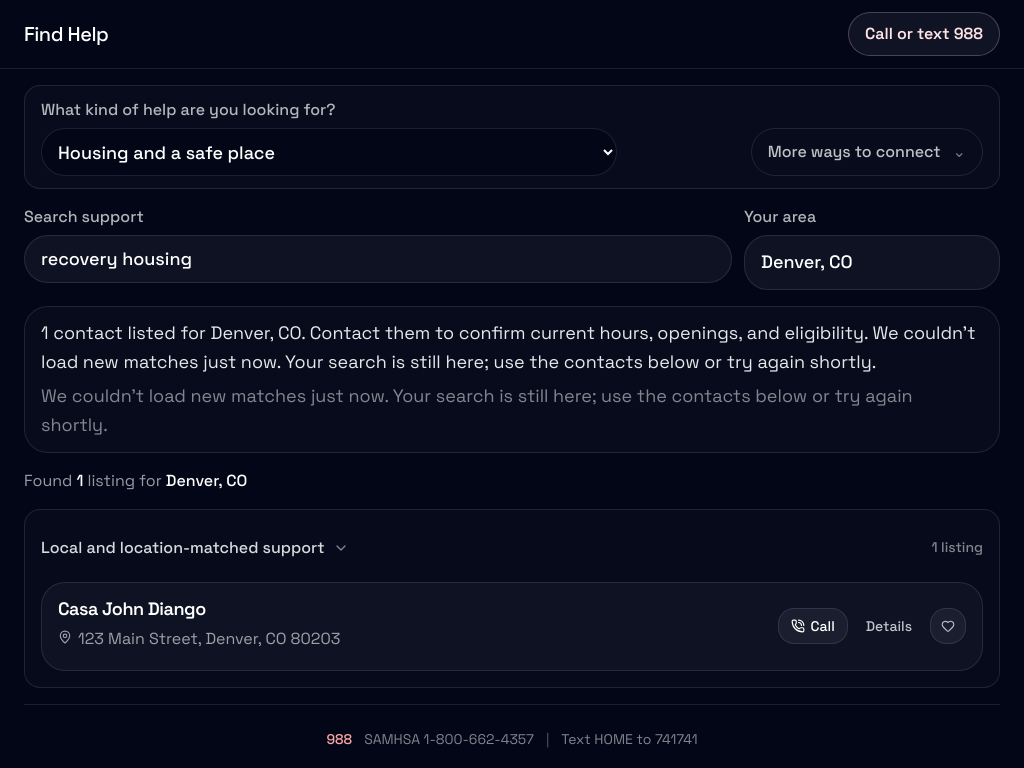
Test: real-world assistance search states › lets a person privately report an issue on an approved WellnessCafe listing in place
Click the button "Details": (889, 626) [854,608,924,644]
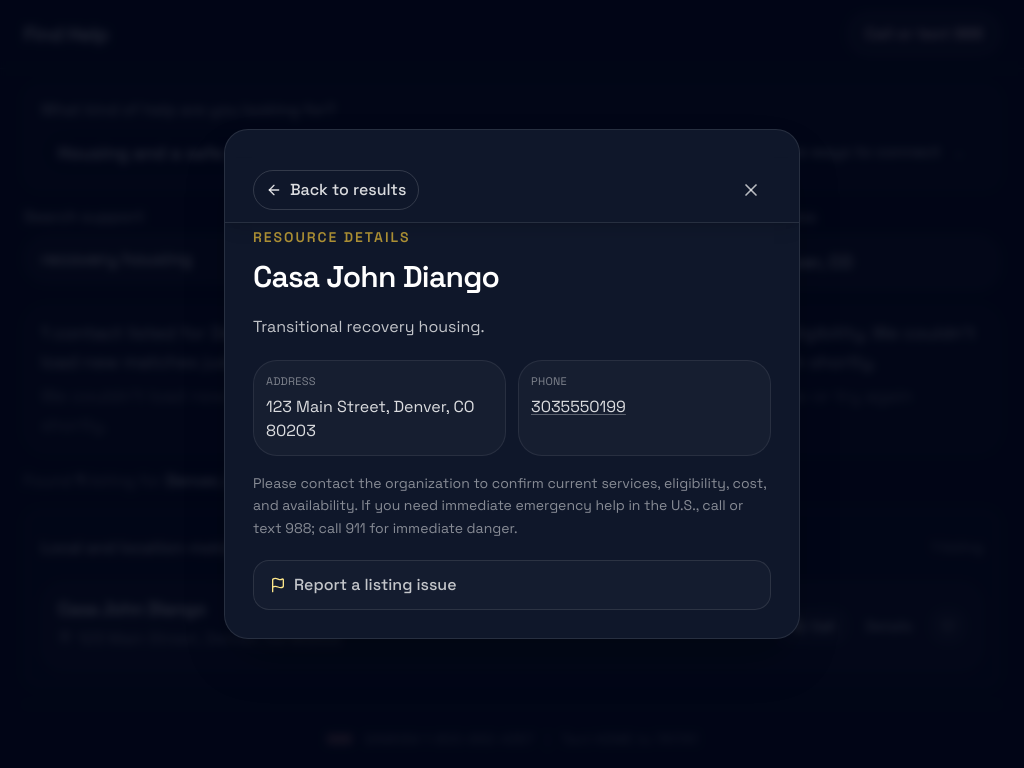
Click the heading "Report a listing issue": (363, 584) [270,574,456,595]
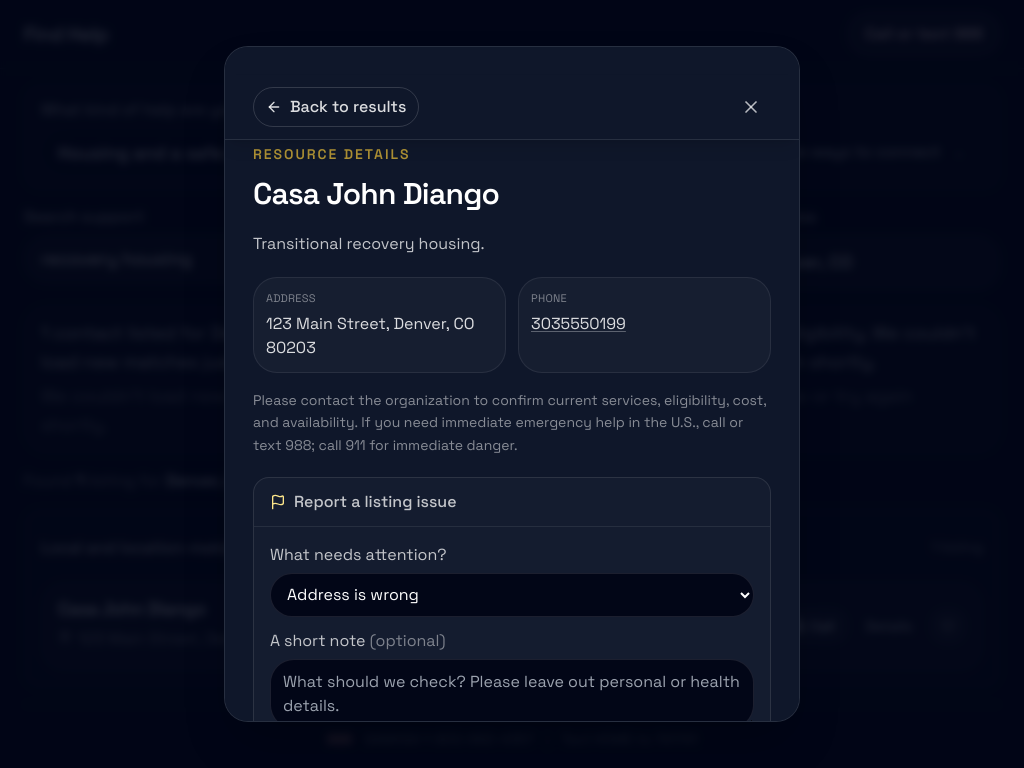
Select "Phone number is wrong" in the dropdown labelled "What needs attention?": (512, 595) [270,573,754,617]
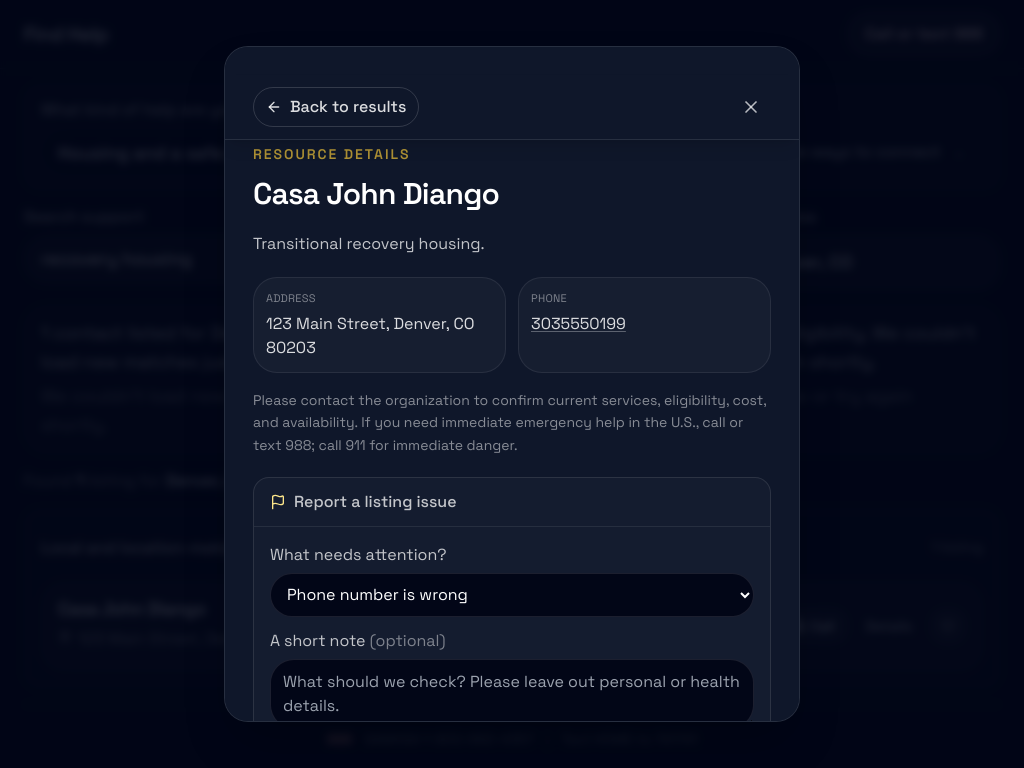
Replace the text in the text box labelled "A short note (optional)" with "The number rings to a different business.": (512, 694) [270,659,754,729]
(page scrolled)
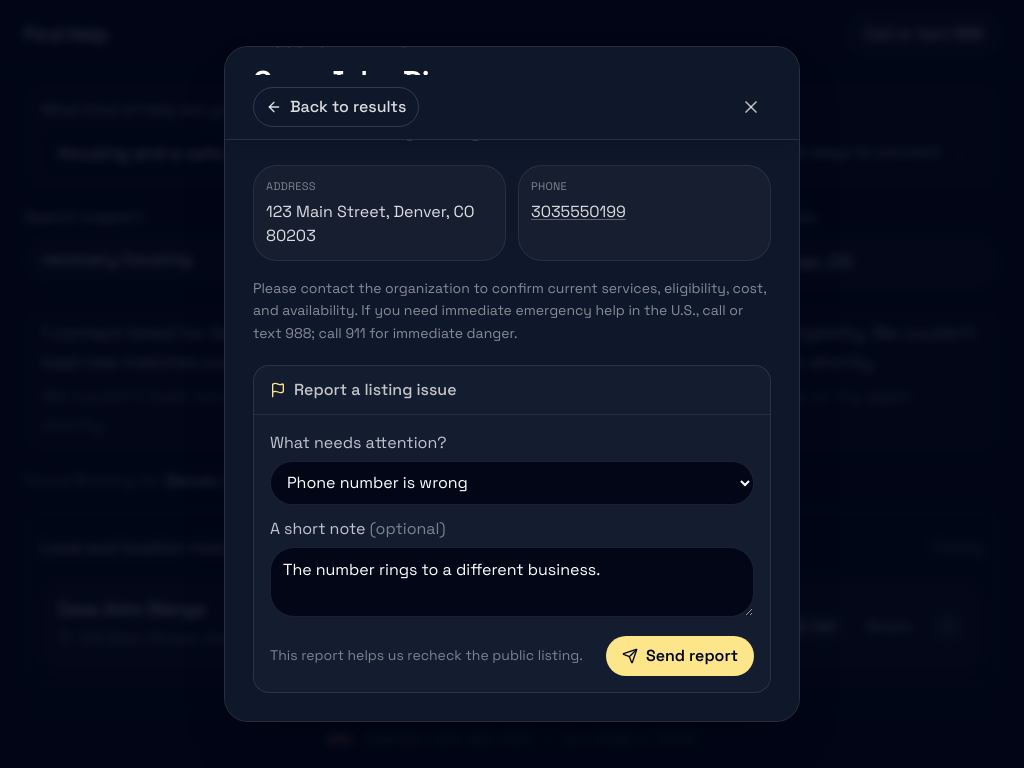
Click the button "Send report": (680, 656) [606,636,754,676]
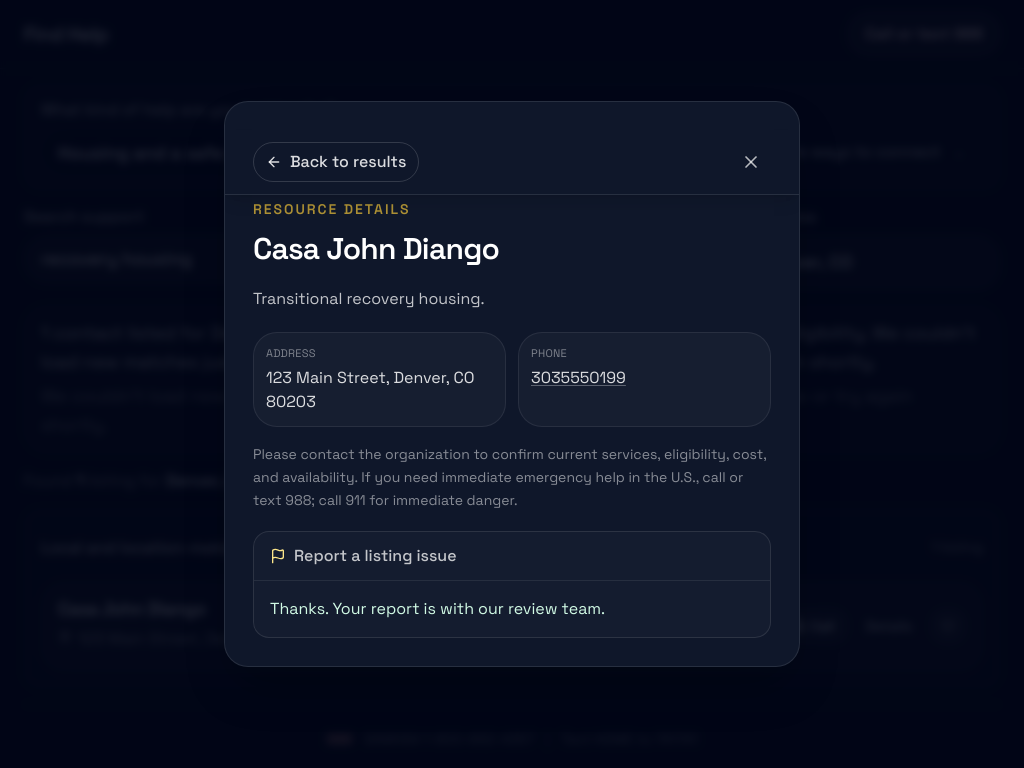
Now the dialog is shown, box [224,101,800,667]
Now the message shows "with our review team", box [270,598,605,619]
